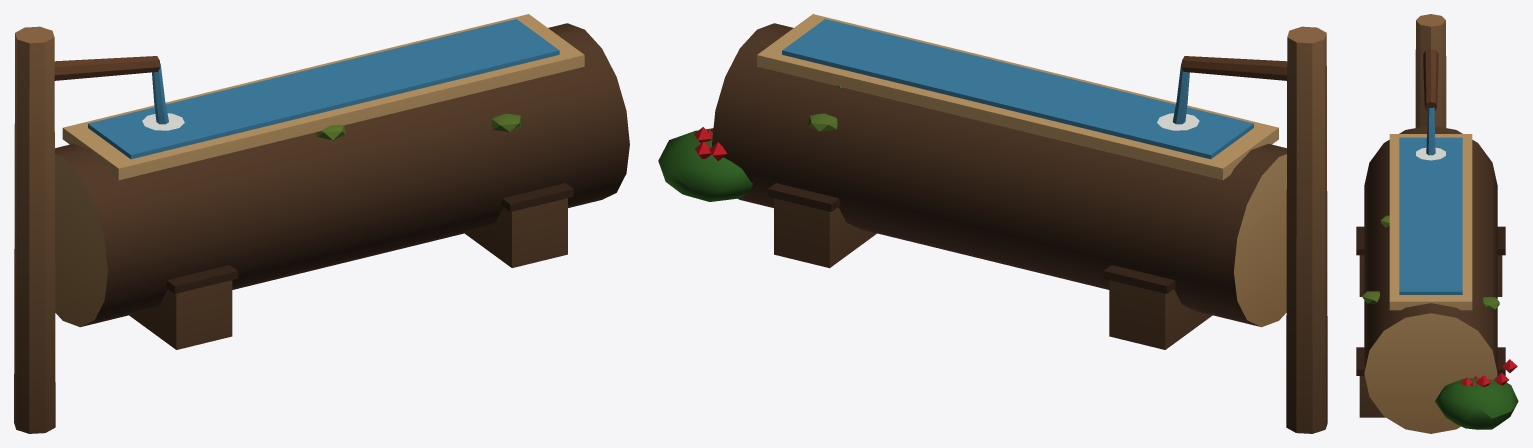
File: Trough.fbx
3 views of the same model, side by side, from view 1: azimuth 30°, elevation 25°; view 2: azimuth 150°, elevation 25°; view 3: azimuth 270°, elevation 25° (orthographic). The views are drawn at different scales.
Parts seen in each view (by area): view 1: Trough_LOD0; view 2: Trough_LOD0; view 3: Trough_LOD0.
Boxes of the visible parts, bbox=[...] form: Trough_LOD0: bbox=[14, 14, 629, 433]; Trough_LOD0: bbox=[658, 14, 1327, 433]; Trough_LOD0: bbox=[1356, 14, 1518, 433].
Size of what is drawn, in the model's own units: 3.36 by 2 by 1.02.
Materials: 1 (1 with a texture image).
